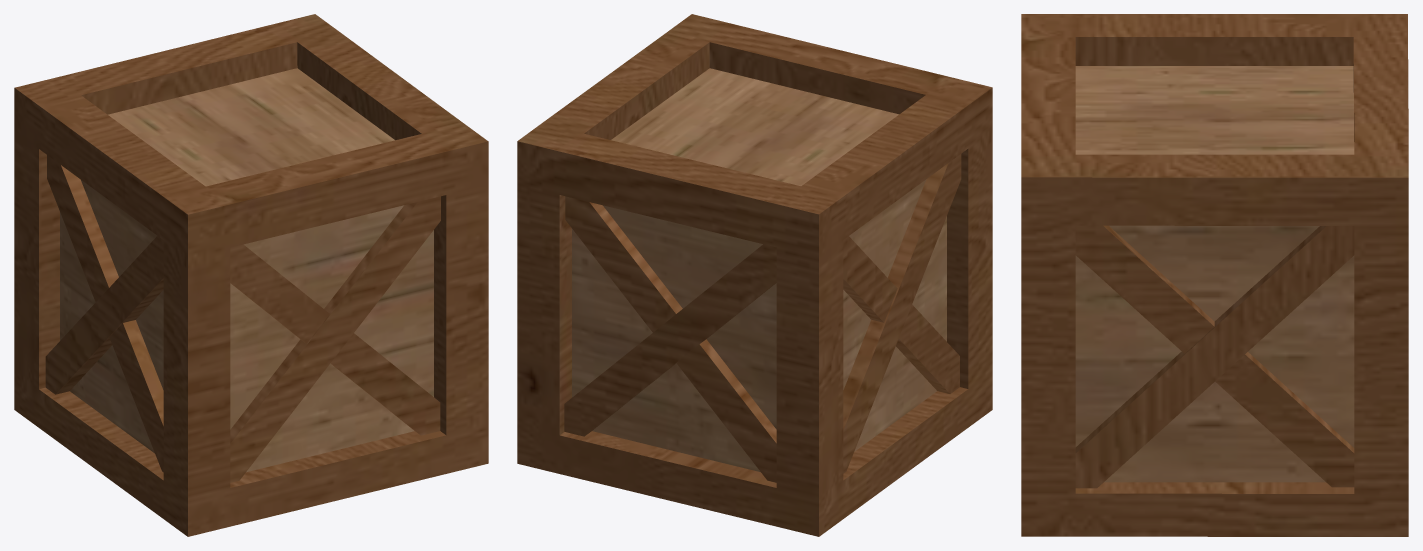
Rendered from hay-harbor-38.glb.
3 renders of one model, left to right at view 1: azimuth 30°, elevation 25°; view 2: azimuth 150°, elevation 25°; view 3: azimuth 270°, elevation 25°, orthographic. The views are drawn at different scales.
Parts seen in each view (by area): view 1: piece; view 2: piece; view 3: piece.
Part boxes in pixels (x1,y1,x2,y2): piece: (14,14,488,536); piece: (517,14,992,536); piece: (1021,14,1408,536).
Size of the model in its own units: 0.2219 by 0.2269 by 0.2219.
Materials: 1 (1 with a texture image).
